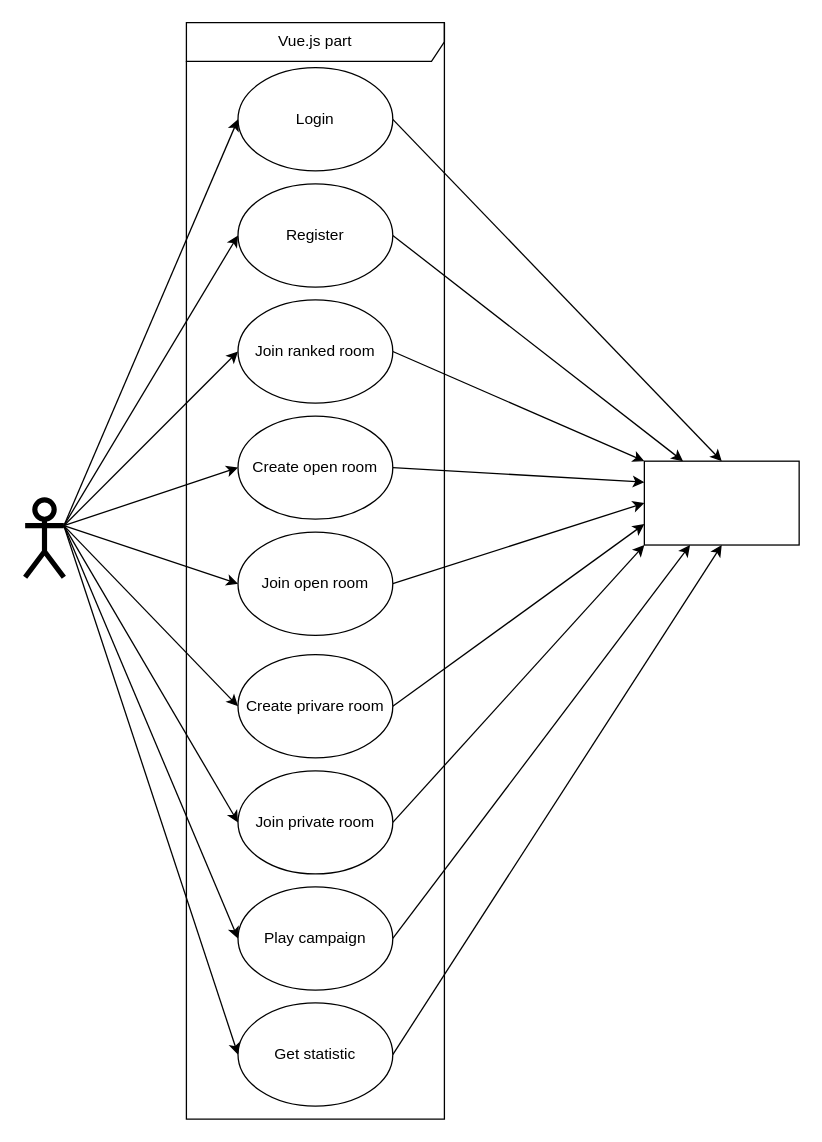
Image size: 822x1142. Some labels were removed from this diagram. Each missing label, with the centre of its shape:
<<actor>> Django API: pixel 721 502
Player: pixel 44 538
